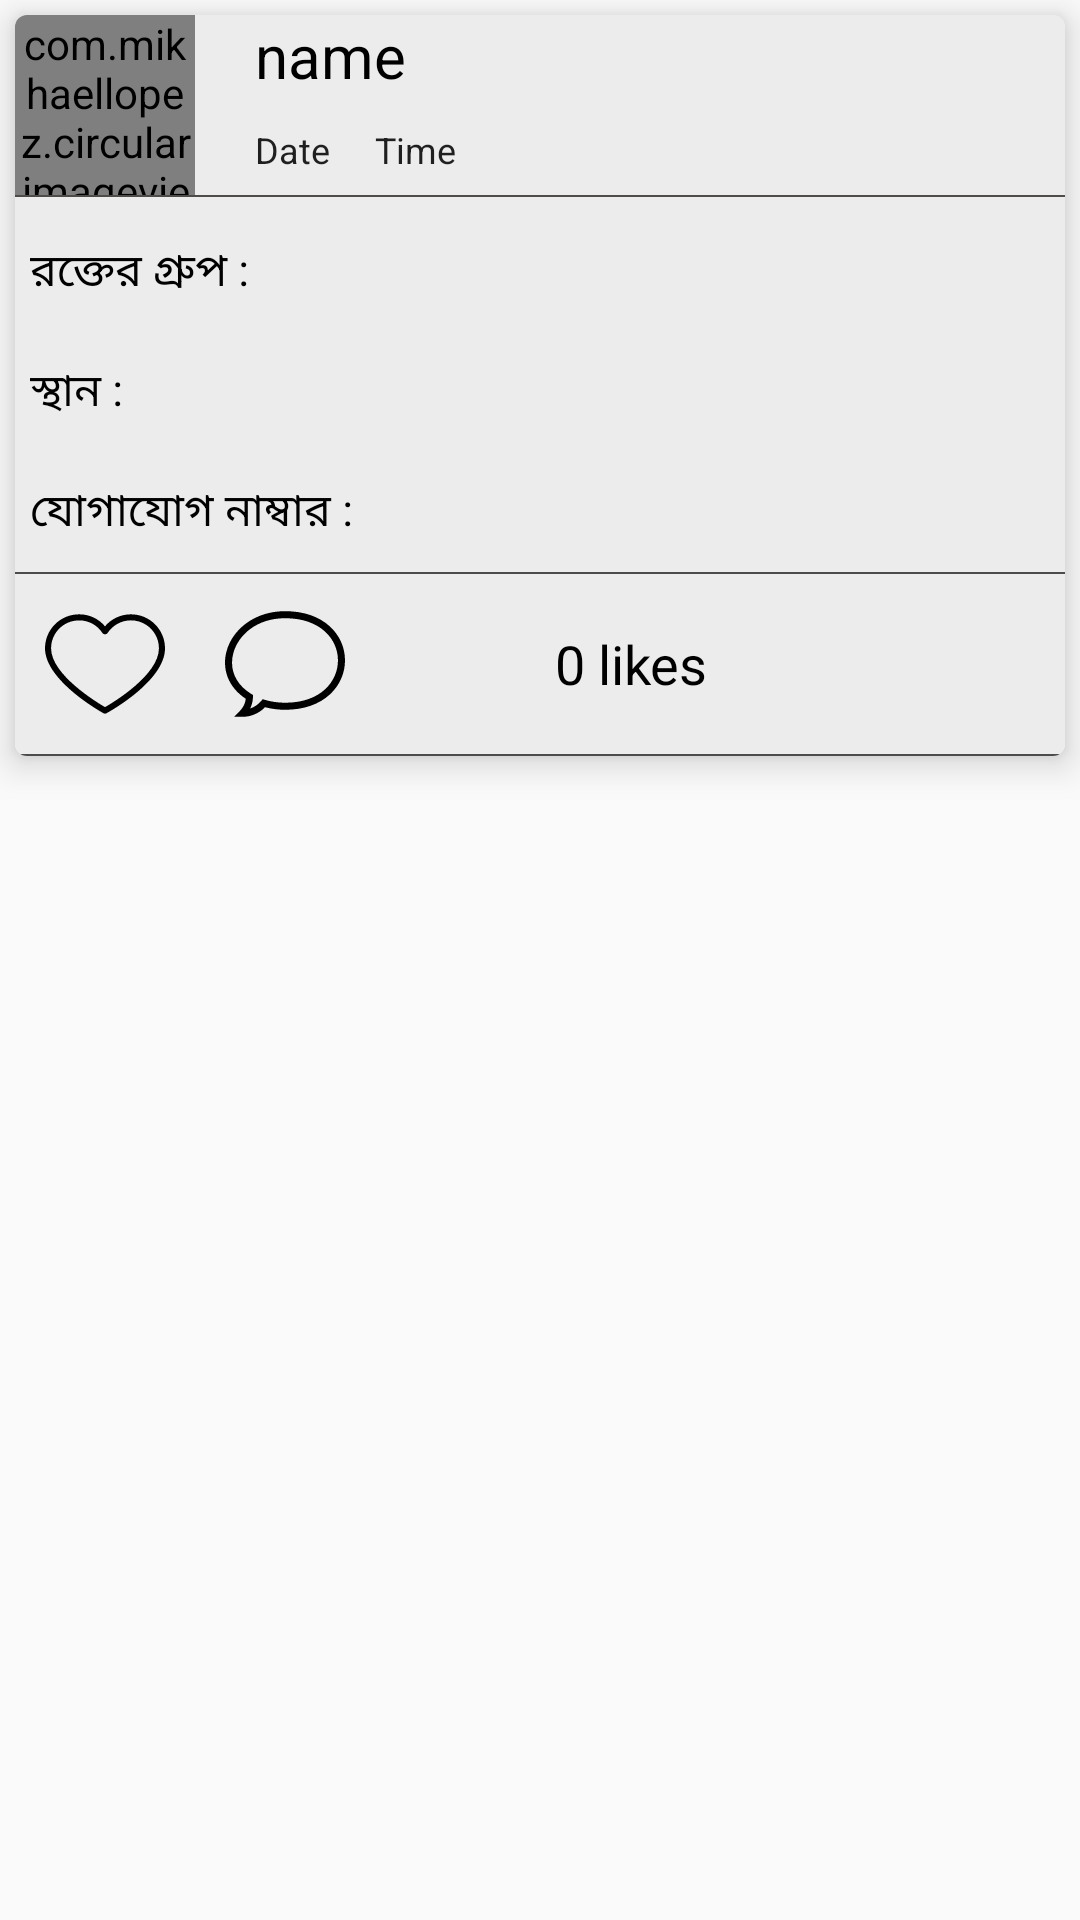

Where icons sit on this 1080 × 1920 app screen, as Rect(x1, y1, x2, y2):
comment: Rect(225, 611, 345, 717)
heart like: Rect(45, 614, 165, 714)
